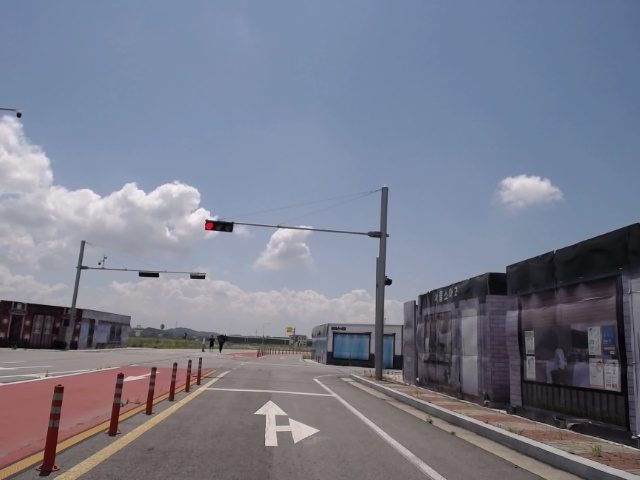red_3: (203, 219, 235, 232)
